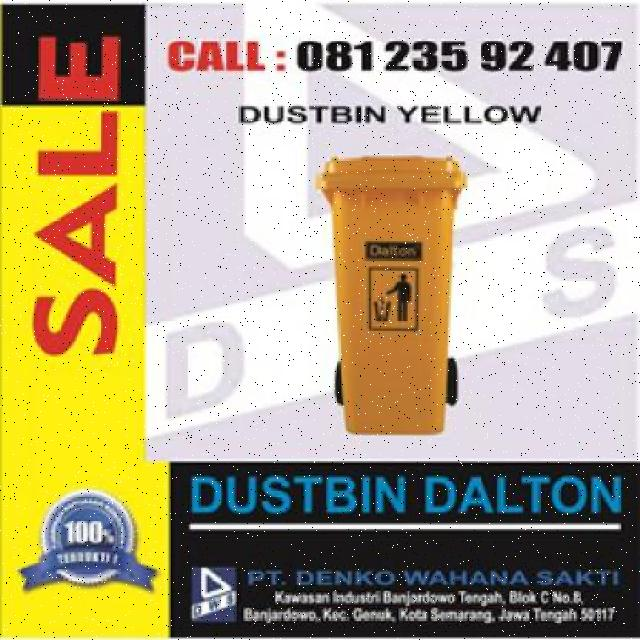garbage container: (313, 147, 472, 448)
